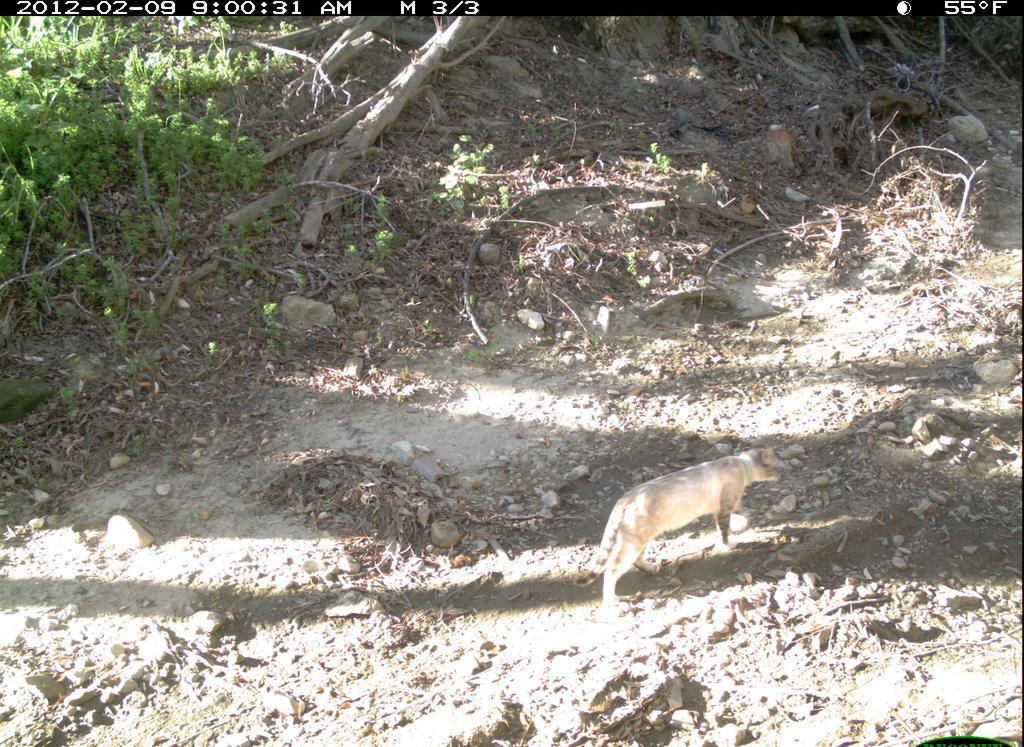cat: (573, 436, 793, 620)
